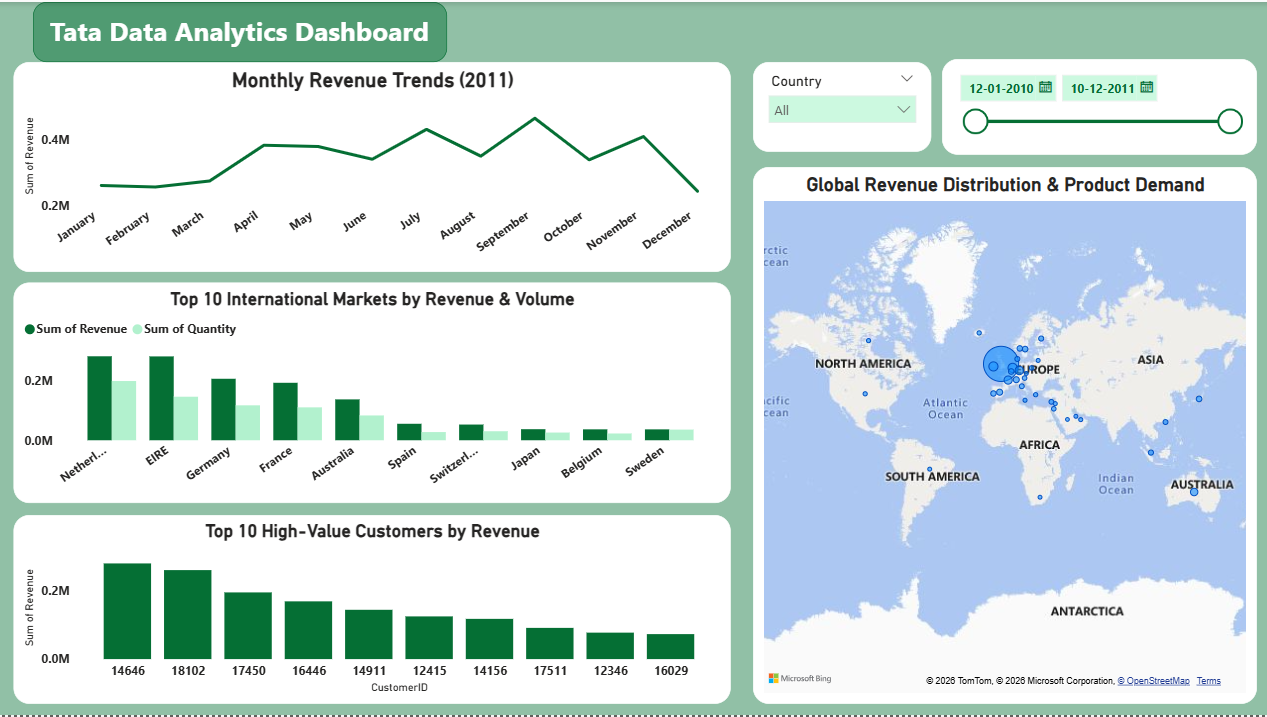

What the dashboard file says about the page in this screenshot:
{"tool":"powerbi","page":{"name":"Page 1","canvas":[1280,720],"ordinal":0},"visuals":[{"type":"lineChart","title":"Monthly Revenue Trends (2011)","fields":{"Y":["Sum(Online Retail Data Set.Revenue)"],"Category":["Online Retail Data Set.InvoiceDate.Variation.Date Hierarchy.Year","Online Retail Data Set.InvoiceDate.Variation.Date Hierarchy.Month"]},"box":[13.6,60.6,723.8,212],"z":0},{"type":"clusteredColumnChart","title":"Top 10 International Markets by Revenue & Volume","fields":{"Category":["Online Retail Data Set.Country"],"Y":["Sum(Online Retail Data Set.Revenue)","Sum(Online Retail Data Set.Quantity)"]},"box":[13.6,283.2,723.8,222.6],"z":1000},{"type":"clusteredColumnChart","title":"Top 10 High-Value Customers by Revenue","fields":{"Y":["Sum(Online Retail Data Set.Revenue)"],"Category":["Online Retail Data Set.CustomerID"]},"box":[13.6,517.9,723.8,190.8],"z":2000},{"type":"map","title":"Global Revenue Distribution & Product Demand","fields":{"Category":["Online Retail Data Set.Country"],"Size":["Sum(Online Retail Data Set.Revenue)"]},"box":[760.1,166.6,508.8,542.1],"z":3000},{"type":"textbox","box":[33.3,0,417.9,60.6],"z":4000},{"type":"slicer","fields":{"Values":["Online Retail Data Set.Country"]},"box":[760.1,60.6,180.2,90.9],"z":5000},{"type":"slicer","fields":{"Values":["Online Retail Data Set.InvoiceDate"]},"box":[950.9,57.5,318,96.9],"z":6000}]}

Visuals, with their boxes in screenshot pixels (x1, y1, x2, y2), scaled from the page's 1280x720 canvas onto the 1267x717 screenshot:
"Monthly Revenue Trends (2011)" lineChart: pyautogui.locateOnScreen(13, 60, 730, 271)
"Top 10 International Markets by Revenue & Volume" clusteredColumnChart: pyautogui.locateOnScreen(13, 282, 730, 504)
"Top 10 High-Value Customers by Revenue" clusteredColumnChart: pyautogui.locateOnScreen(13, 516, 730, 706)
"Global Revenue Distribution & Product Demand" map: pyautogui.locateOnScreen(752, 166, 1256, 706)
textbox: pyautogui.locateOnScreen(33, 0, 447, 60)
slicer - Online Retail Data Set.Country: pyautogui.locateOnScreen(752, 60, 931, 151)
slicer - Online Retail Data Set.InvoiceDate: pyautogui.locateOnScreen(941, 57, 1256, 154)
